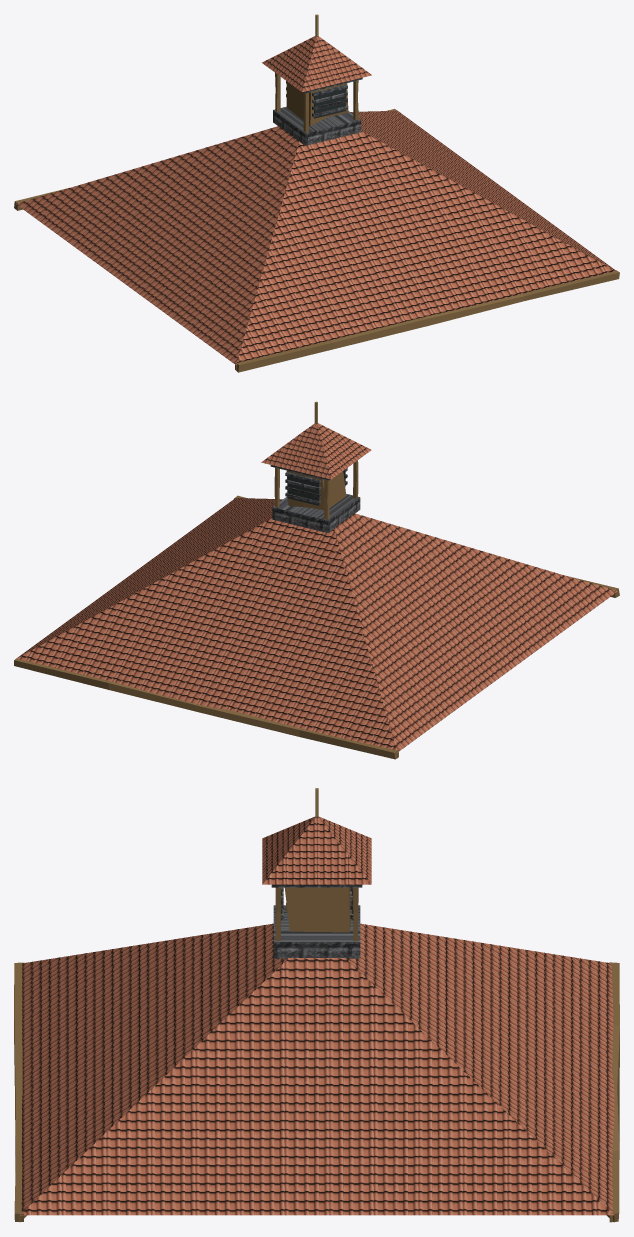
The model's file is town_Roof_09_hip.glb.
3 renders of one model, top to bottom at view 1: azimuth 30°, elevation 25°; view 2: azimuth 150°, elevation 25°; view 3: azimuth 270°, elevation 25°, orthographic. The views are drawn at different scales.
Parts seen in each view (by area): view 1: town_Roof_09_hip.005; view 2: town_Roof_09_hip.005; view 3: town_Roof_09_hip.005.
Boxes of the visible parts, x1,y1,x2,y2 form: town_Roof_09_hip.005: [14, 14, 619, 372]; town_Roof_09_hip.005: [14, 401, 619, 759]; town_Roof_09_hip.005: [14, 788, 619, 1222].
Size of the model in its own units: 7 by 4.01 by 7.13.
3 materials, 2 textured.
